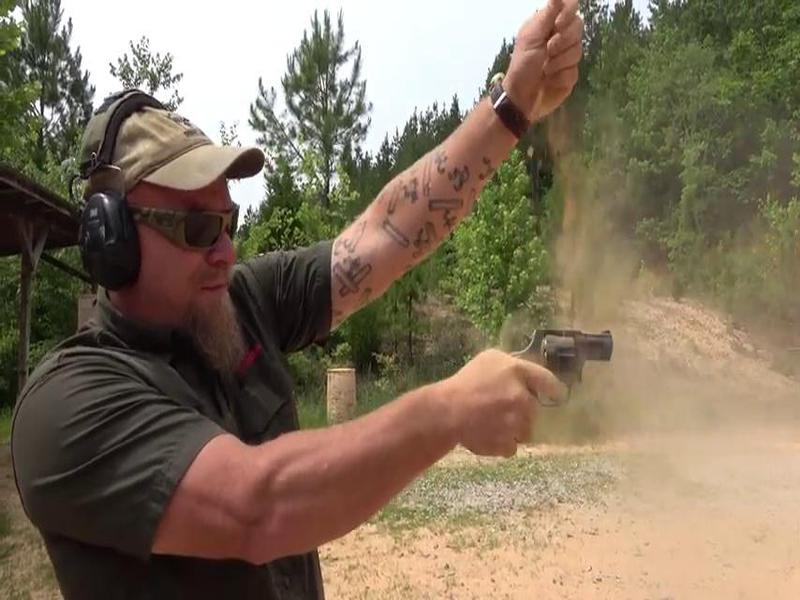Revolver: (480, 307, 655, 439)
